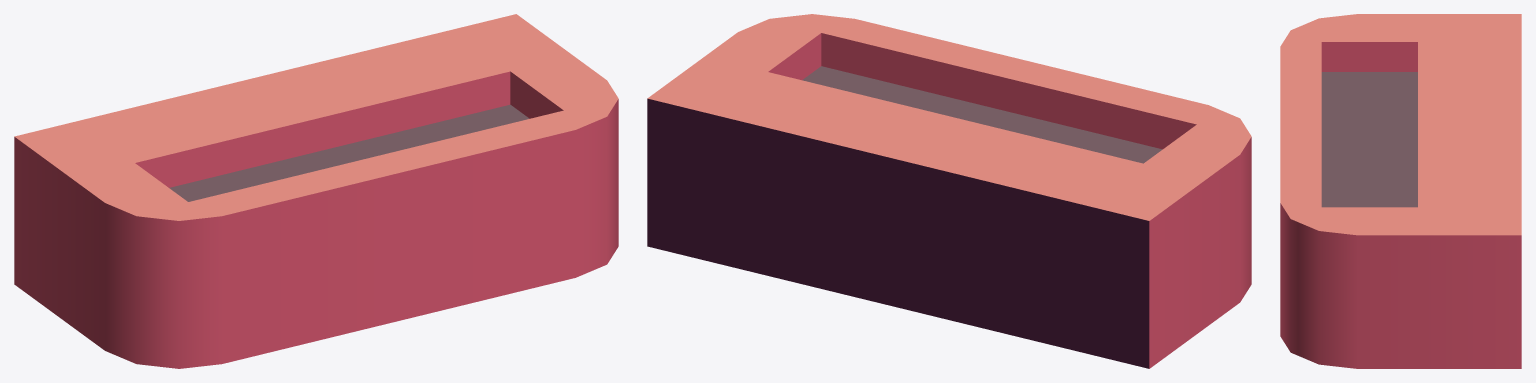
Rendered from PlanterBox_Pink02.glb.
The picture shows the model from 3 angles, left to right: view 1: azimuth 30°, elevation 25°; view 2: azimuth 150°, elevation 25°; view 3: azimuth 270°, elevation 25°; orthographic projection. The views are drawn at different scales.
Visible parts, largest first — view 1: PlanterBox_Pink02; view 2: PlanterBox_Pink02; view 3: PlanterBox_Pink02.
Part boxes in pixels (x1,y1,x2,y2): PlanterBox_Pink02: (14,14,618,368); PlanterBox_Pink02: (647,14,1251,368); PlanterBox_Pink02: (1280,14,1521,368).
Size of the model in its own units: 0.9727 by 0.2738 by 0.4483.
Materials: 1 (1 with a texture image).
